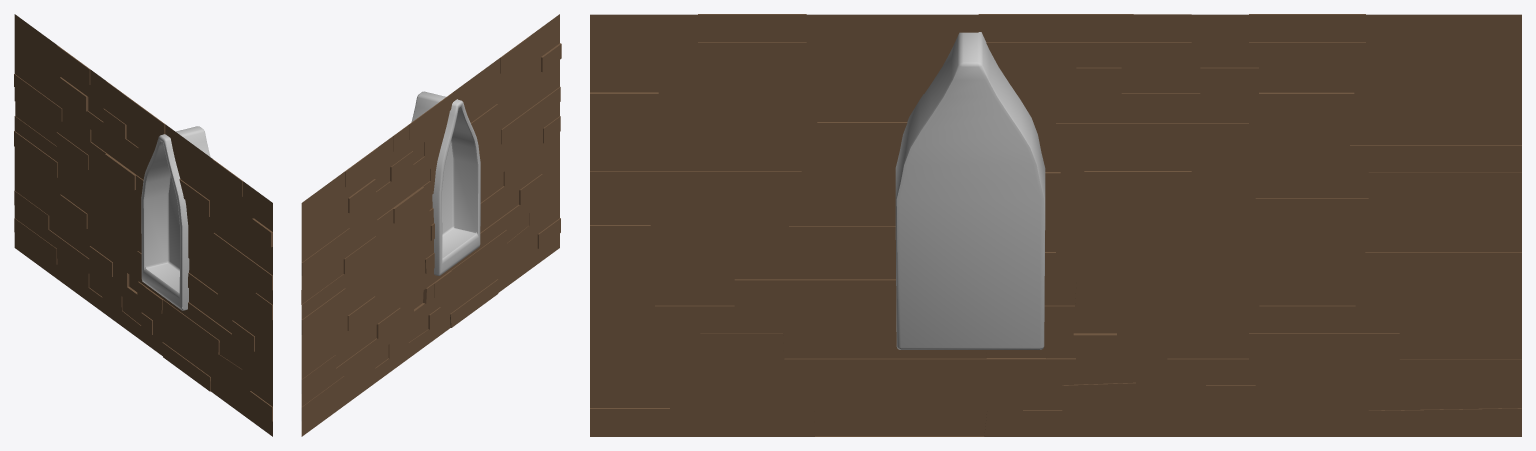
Rendered from Corridor_Wall_Window.fbx.
3 renders of one model, left to right at view 1: azimuth 30°, elevation 25°; view 2: azimuth 150°, elevation 25°; view 3: azimuth 270°, elevation 25°, orthographic. The views are drawn at different scales.
Visible parts, largest first — view 1: Corridor_Wall_Window; view 2: Corridor_Wall_Window; view 3: Corridor_Wall_Window.
Boxes of the visible parts, bbox=[...] form: Corridor_Wall_Window: bbox=[14, 14, 272, 436]; Corridor_Wall_Window: bbox=[301, 14, 561, 436]; Corridor_Wall_Window: bbox=[590, 14, 1521, 436].
Bounding box in the file's own units: 45.22 × 248 × 497.
